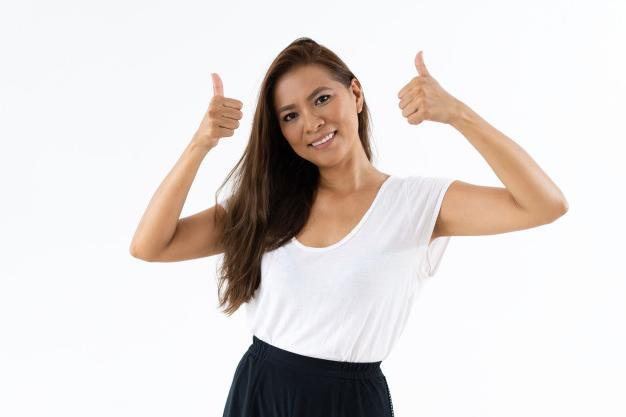thumbsup: (398, 51, 433, 125), (209, 72, 243, 137)
